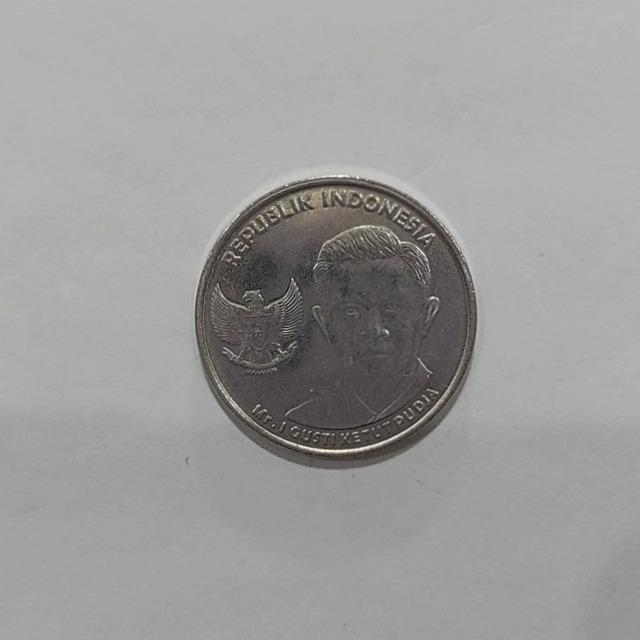Rp100: (193, 172, 478, 466)
